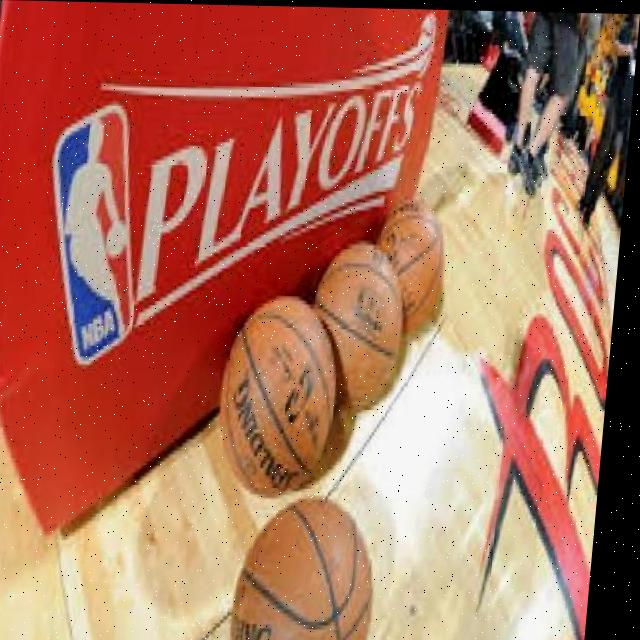Basketball: (213, 294, 343, 498), (228, 494, 382, 640), (305, 241, 409, 409), (370, 201, 449, 334)
